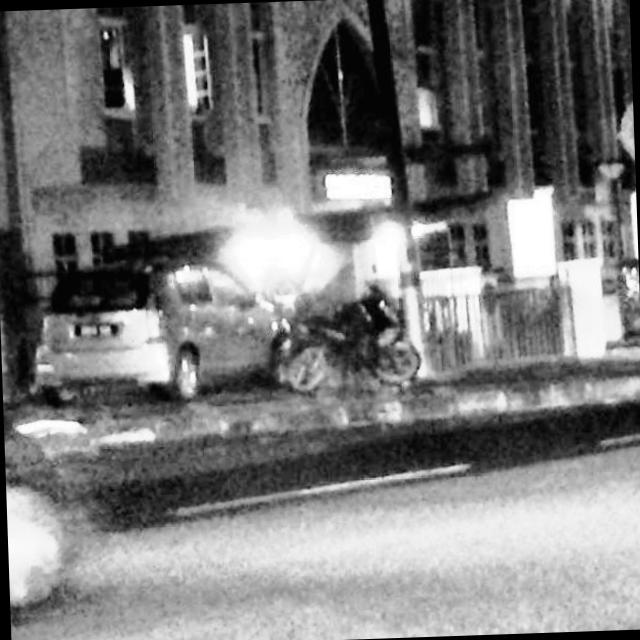Car: (24, 248, 288, 401)
Motorcycle: (276, 267, 429, 396)
